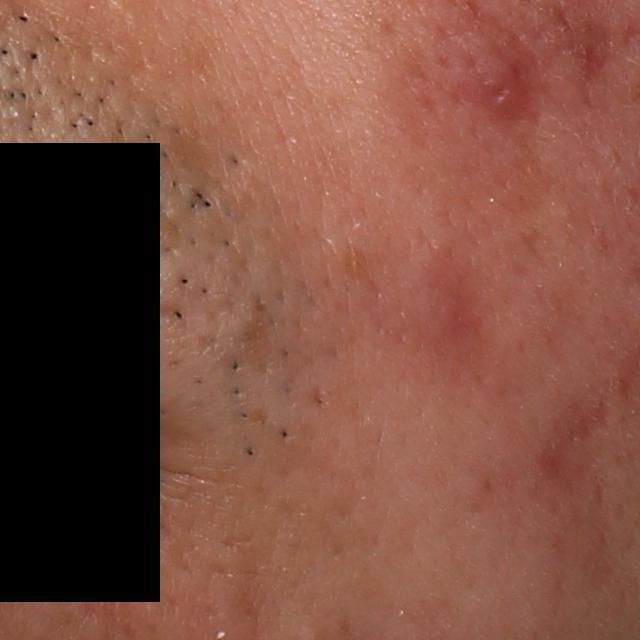papule: (442, 22, 548, 130)
